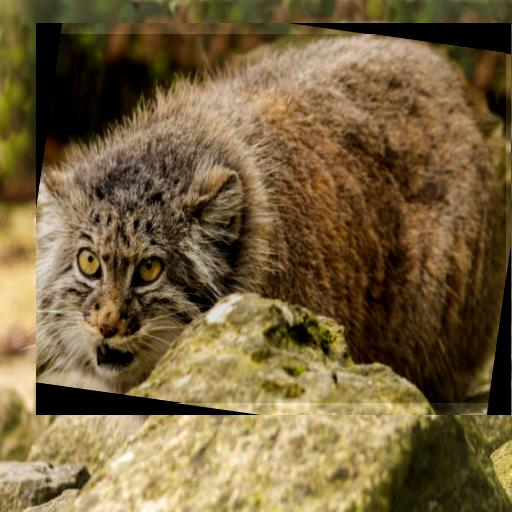manul: (36, 35, 506, 403)
